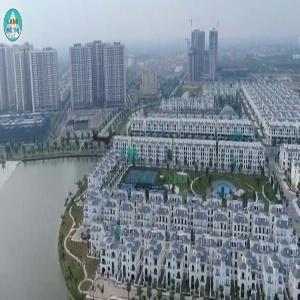drone: (63, 105, 139, 181)
